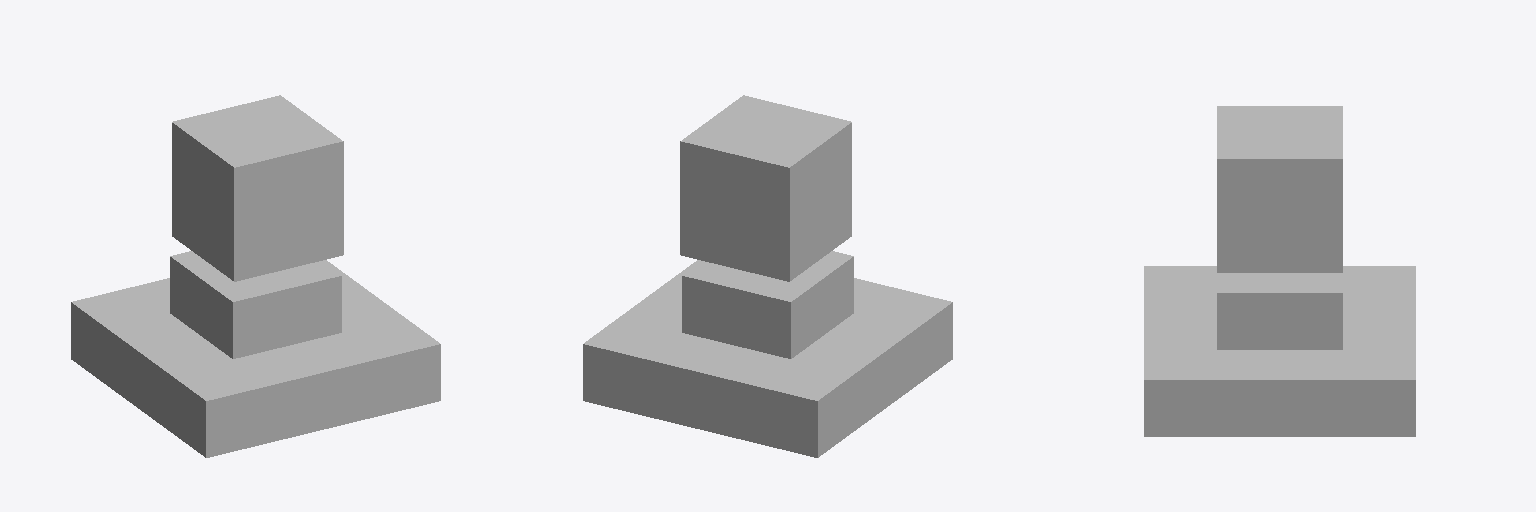
The model's file is ReecesStand.obj.
The picture shows the model from 3 angles: view 1: azimuth 30°, elevation 25°; view 2: azimuth 150°, elevation 25°; view 3: azimuth 270°, elevation 25°; orthographic projection.
Visible parts, largest first — view 1: Stand_Cube.002, TopCube_Cube.001; view 2: Stand_Cube.002, TopCube_Cube.001; view 3: Stand_Cube.002, TopCube_Cube.001.
Boxes of the visible parts, x1=… form: Stand_Cube.002: x1=71, y1=251, x2=440, y2=457; TopCube_Cube.001: x1=172, y1=95, x2=343, y2=281; Stand_Cube.002: x1=583, y1=251, x2=952, y2=457; TopCube_Cube.001: x1=680, y1=95, x2=851, y2=281; Stand_Cube.002: x1=1144, y1=266, x2=1415, y2=436; TopCube_Cube.001: x1=1217, y1=106, x2=1342, y2=272.
Bounding box in the file's own units: 4.3 × 4.35 × 4.3.